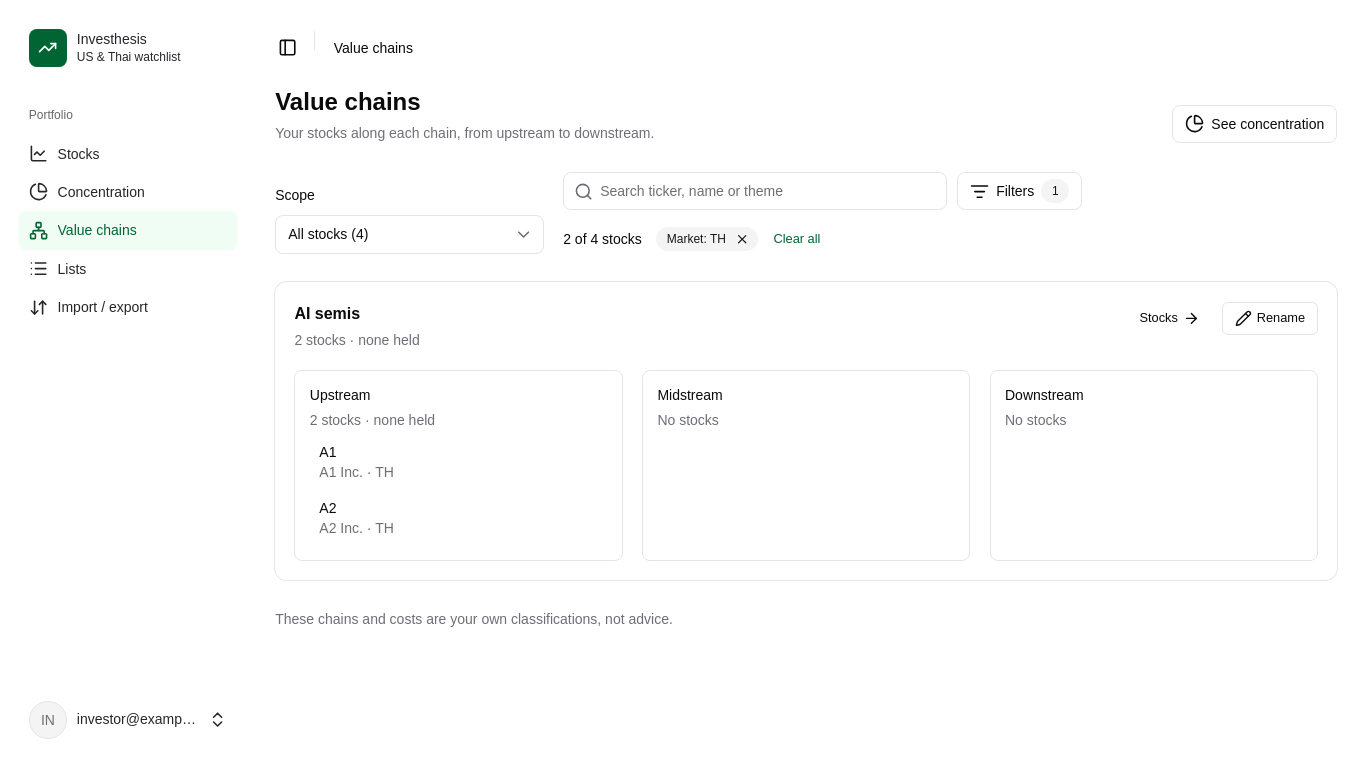
Test: the rename dialog › TC-C-930 the dialog is labelled, selected and counts every stock of the chain, in view or not
The width and height of the screenshot is (1366, 768).
Expected: the heading "Value chains" is shown, [275,88,421,115]
Click the button "Rename": (1270, 318) [1222,302,1318,335]
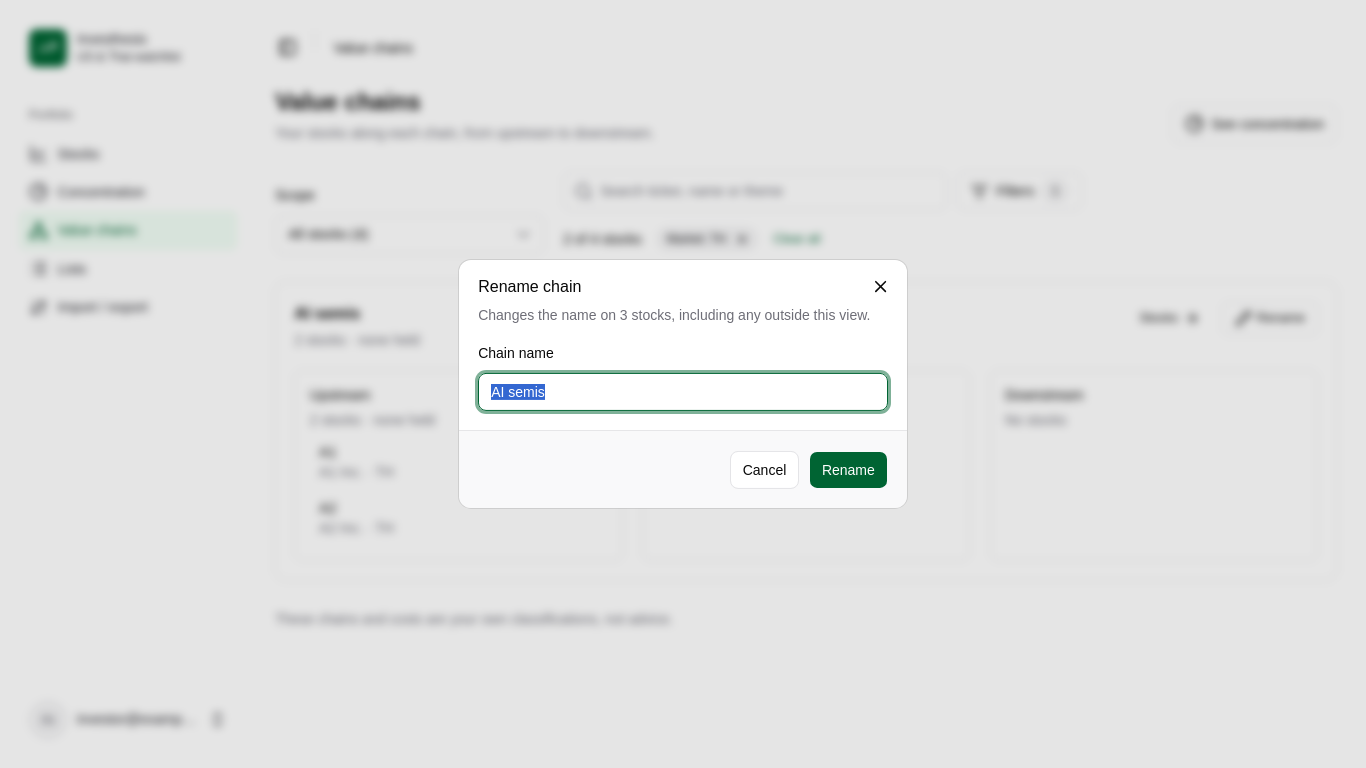
Now the field labelled "Chain name" holds "AI semis", box [478,373,888,411]
Now the button "Cancel" is shown, box [730,450,799,489]
Now the button "Rename" is shown, box [809,450,888,489]
Press Escape
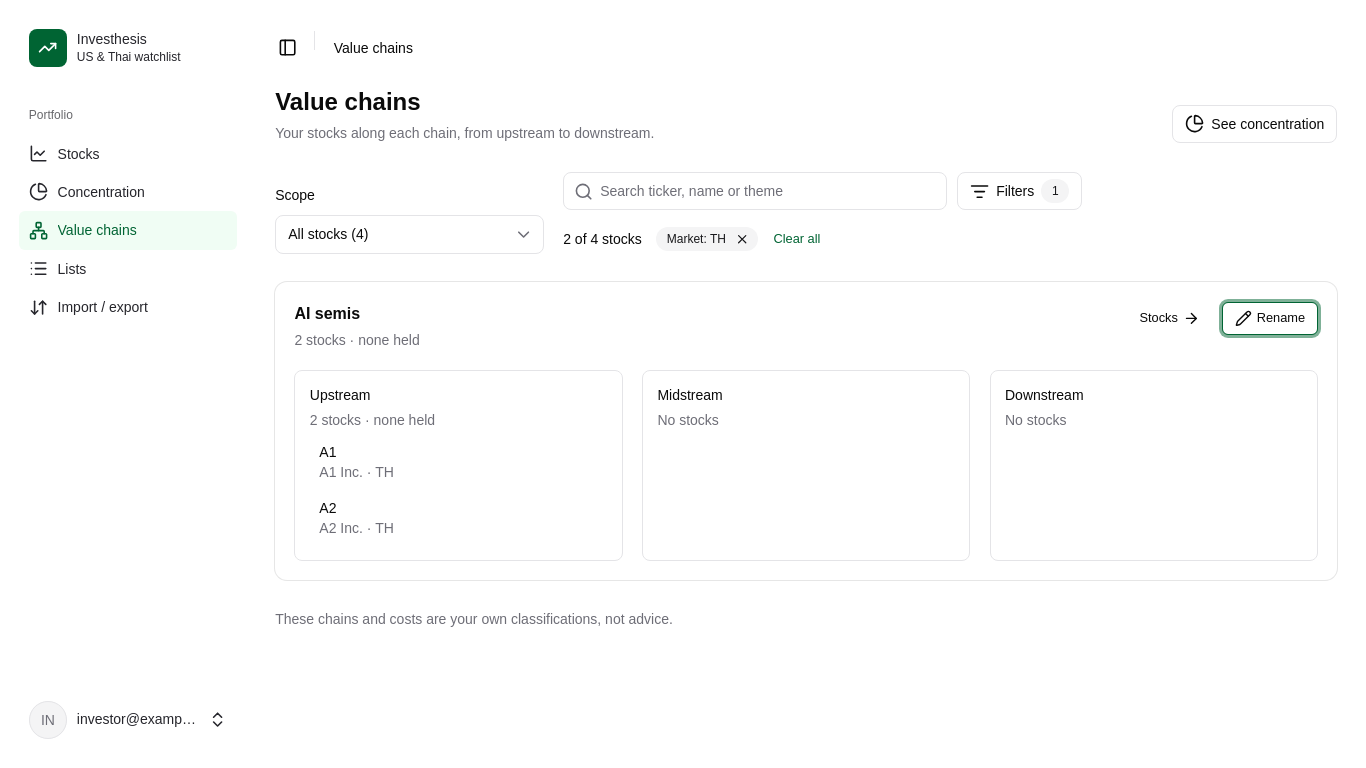
Now the dialog is gone
